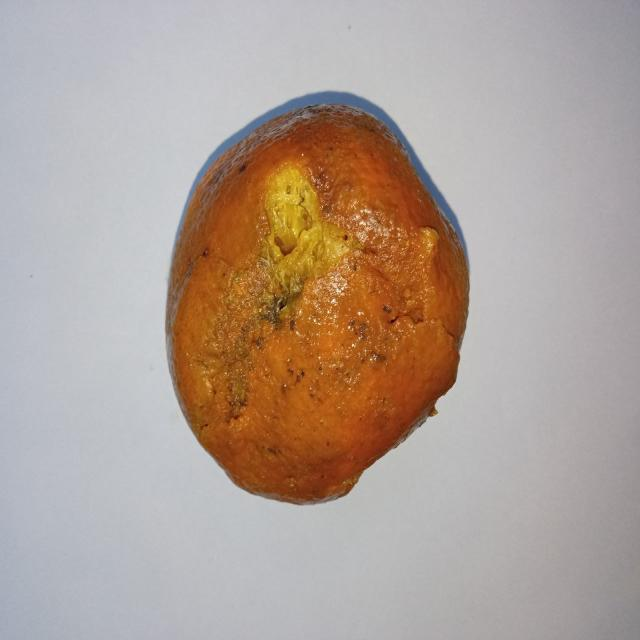rotten_orange: (164, 104, 470, 511)
